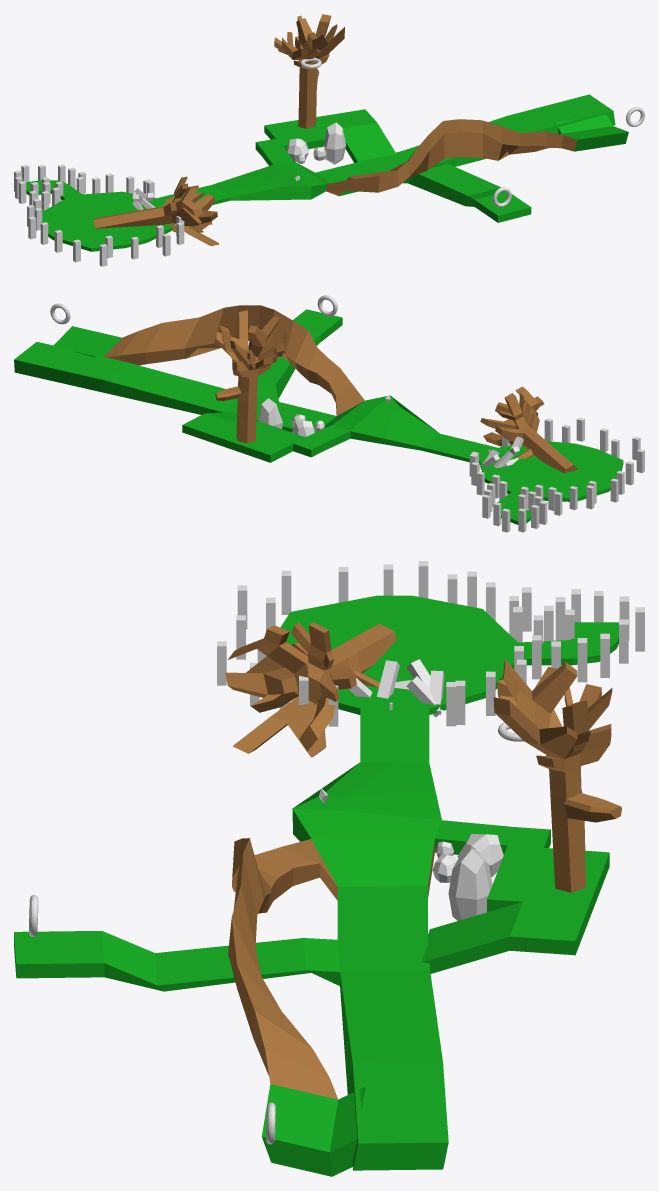
File: forestPathsMockup.fbx
The picture shows the model from 3 angles, top to bottom: view 1: azimuth 30°, elevation 25°; view 2: azimuth 150°, elevation 25°; view 3: azimuth 270°, elevation 25°; orthographic projection. The views are drawn at different scales.
Parts seen in each view (by area): view 1: floor, tree, tree.001, rock.003; view 2: floor, tree.001, tree, rock.003; view 3: floor, tree.001, tree, rock.003, rock.
Part boxes in pixels (box(x1,y1,x2,y2)): floor: box(26, 94, 628, 251); tree: box(93, 176, 218, 245); tree.001: box(274, 14, 344, 128); rock.003: box(324, 122, 346, 164); floor: box(14, 305, 623, 524); tree.001: box(215, 310, 286, 443); tree: box(480, 386, 578, 473); rock.003: box(258, 398, 282, 428); floor: box(14, 595, 618, 1176); tree.001: box(493, 659, 621, 892); tree: box(225, 622, 396, 757); rock.003: box(448, 849, 492, 920); rock: box(457, 834, 503, 876).
Size of the model in its own units: 36246 by 8245 by 17427.
